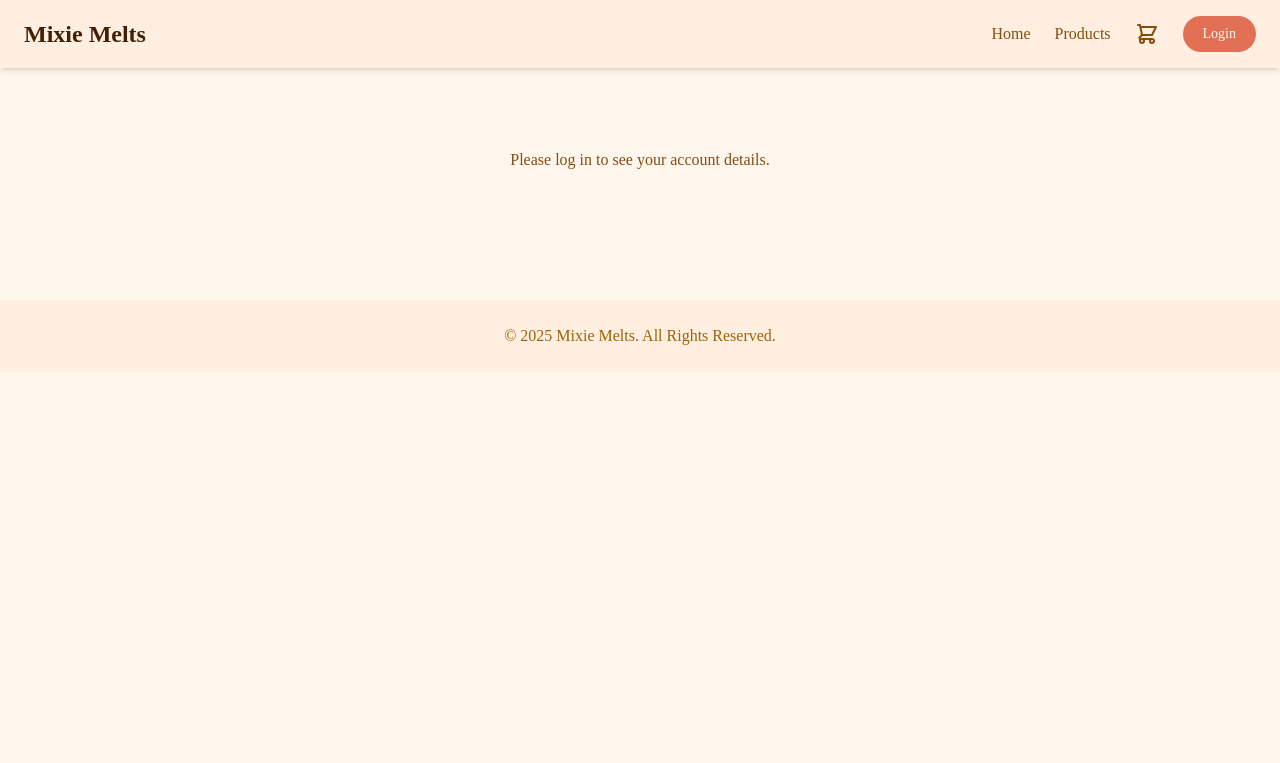
Authentication and Authorization › should show admin panel for an admin user (via UI login)
// Navigate to login page
Click the button at (1219, 34), box [1182,16,1256,52]
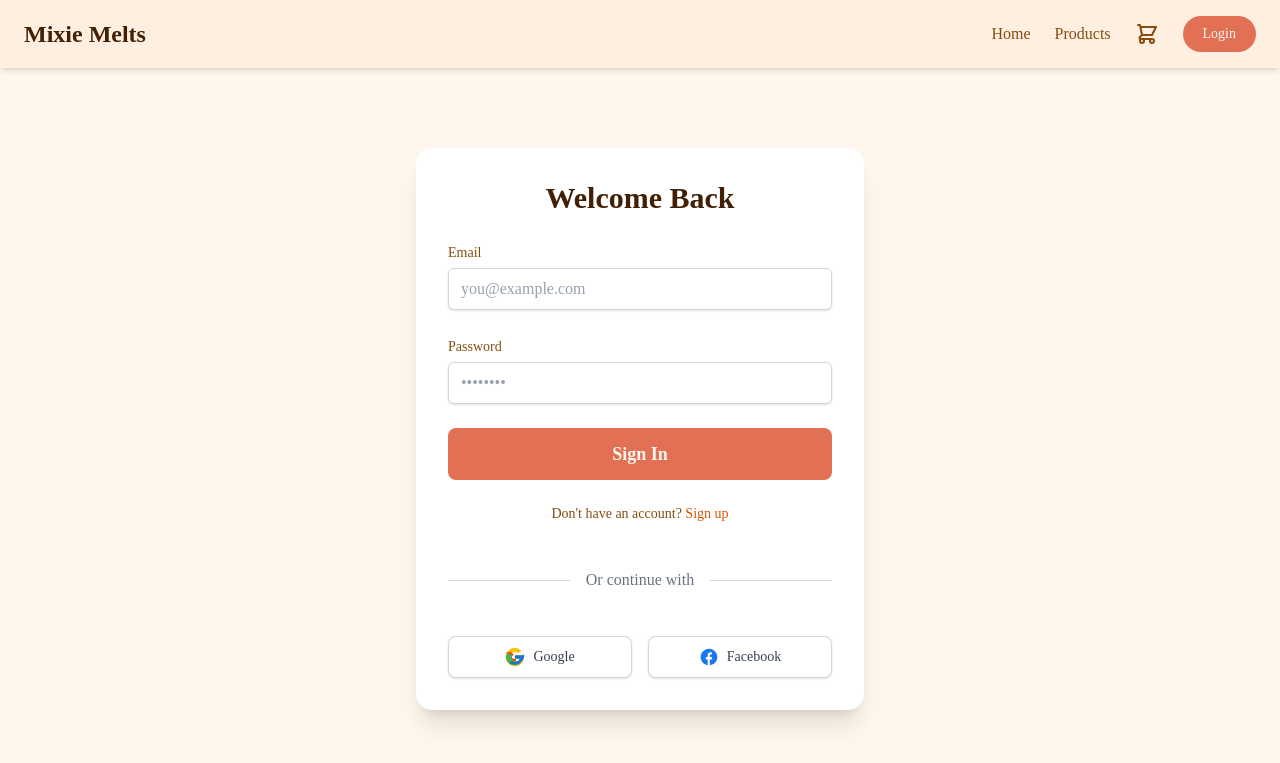
Expected: the field labelled "Email" is shown
// Fill and submit login form as admin
Type "admin@test.com" into the field labelled "Email" at (640, 289), box [448,268,832,310]
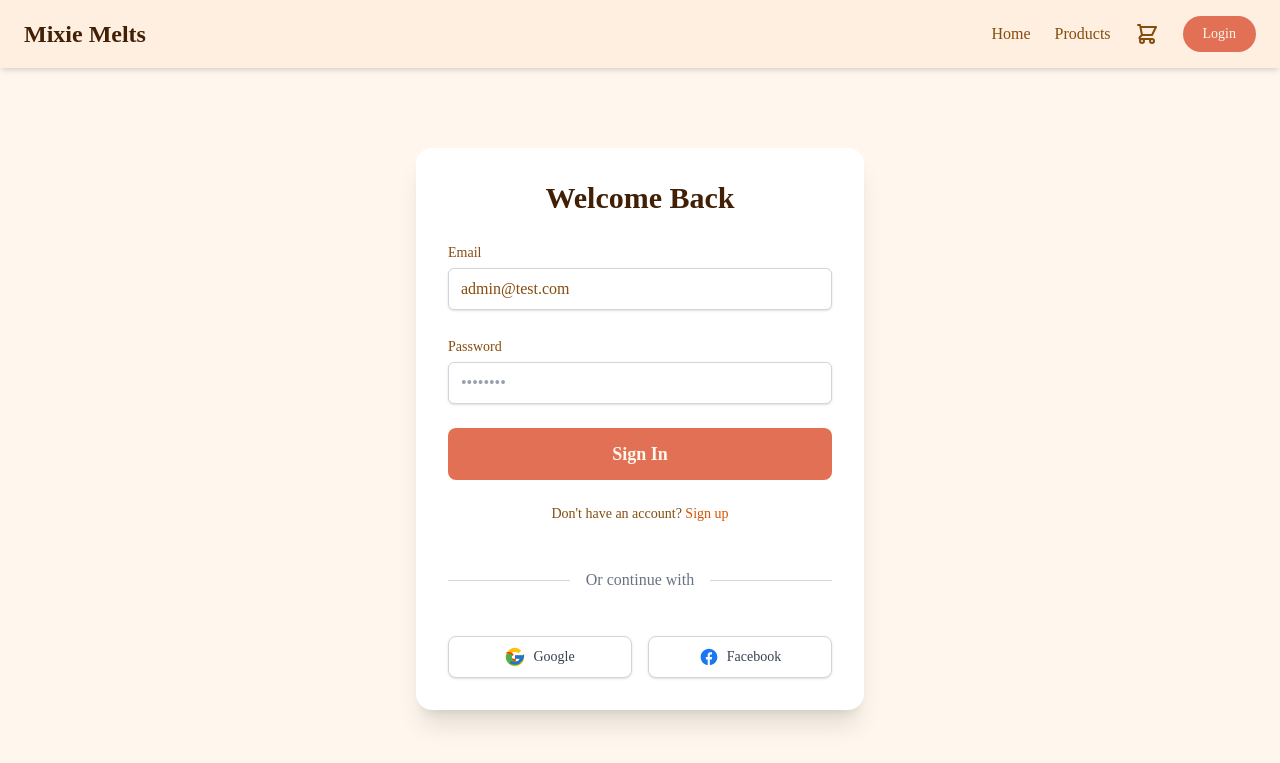
Type "adminpassword" into the password field labelled "Password" at (640, 383), box [448,362,832,404]
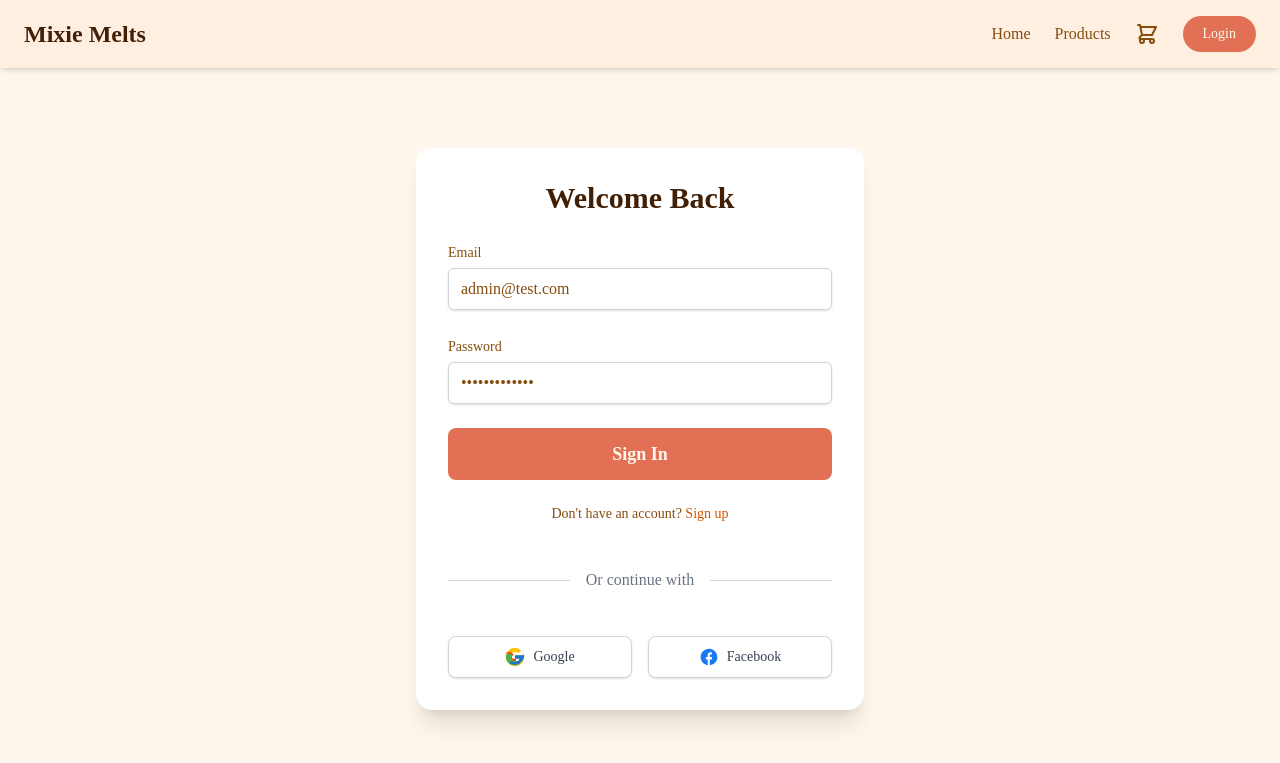
Click the button "Sign In" at (640, 454), box [448,428,832,480]
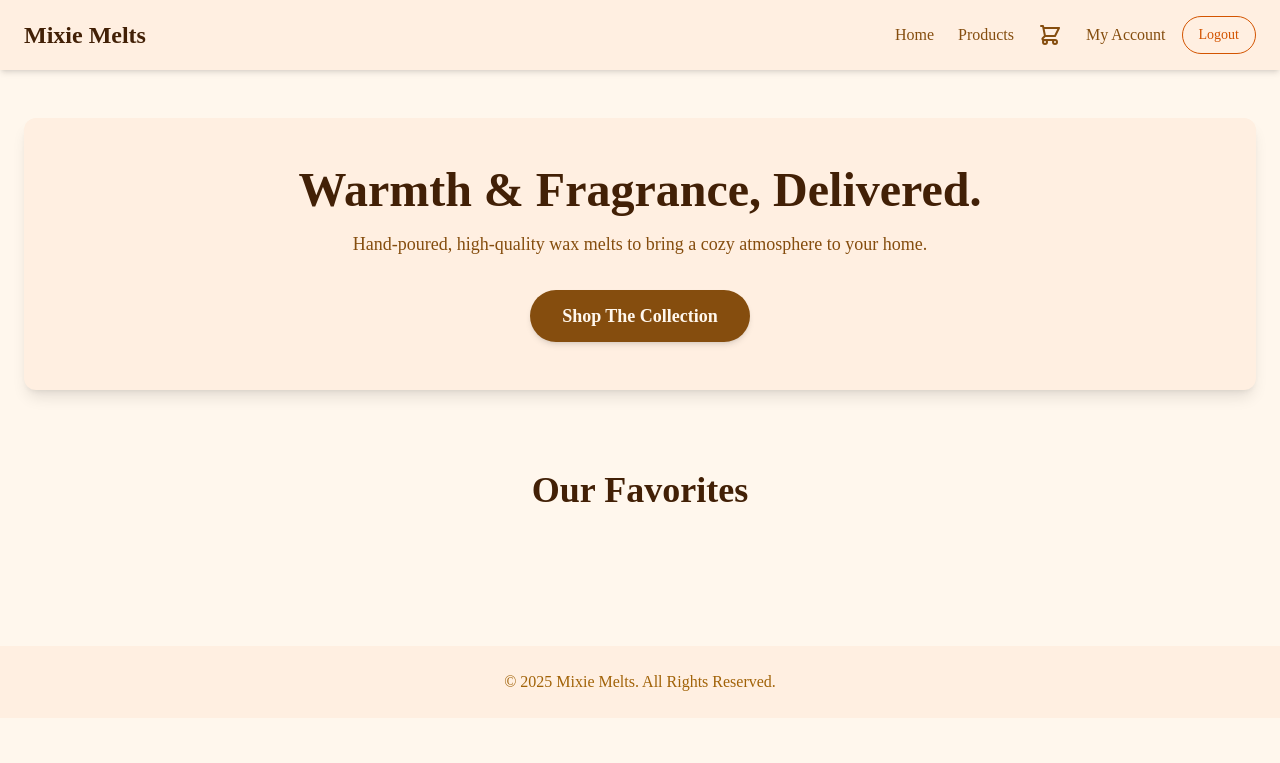
Expected: the link "My Account" is shown
Expected: the button "Logout" is shown, [1182,16,1256,54]
// Navigate to account page
Click the link "My Account" at (1126, 35), box [1086,23,1166,47]
(page scrolled)
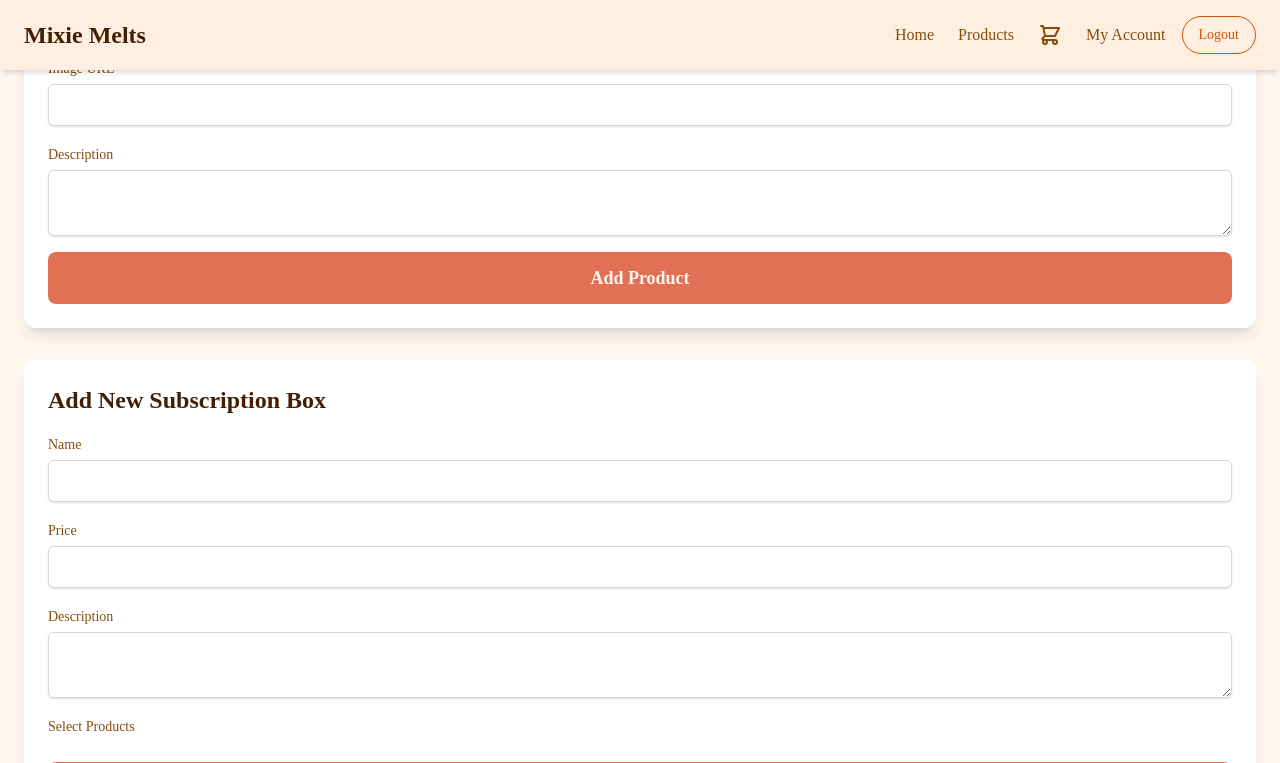
Expected: the heading "Add New Subscription Box" is shown, [48,387,326,413]
